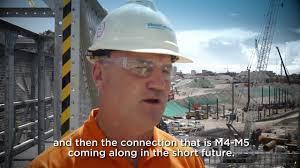helmet: (84, 0, 194, 66)
